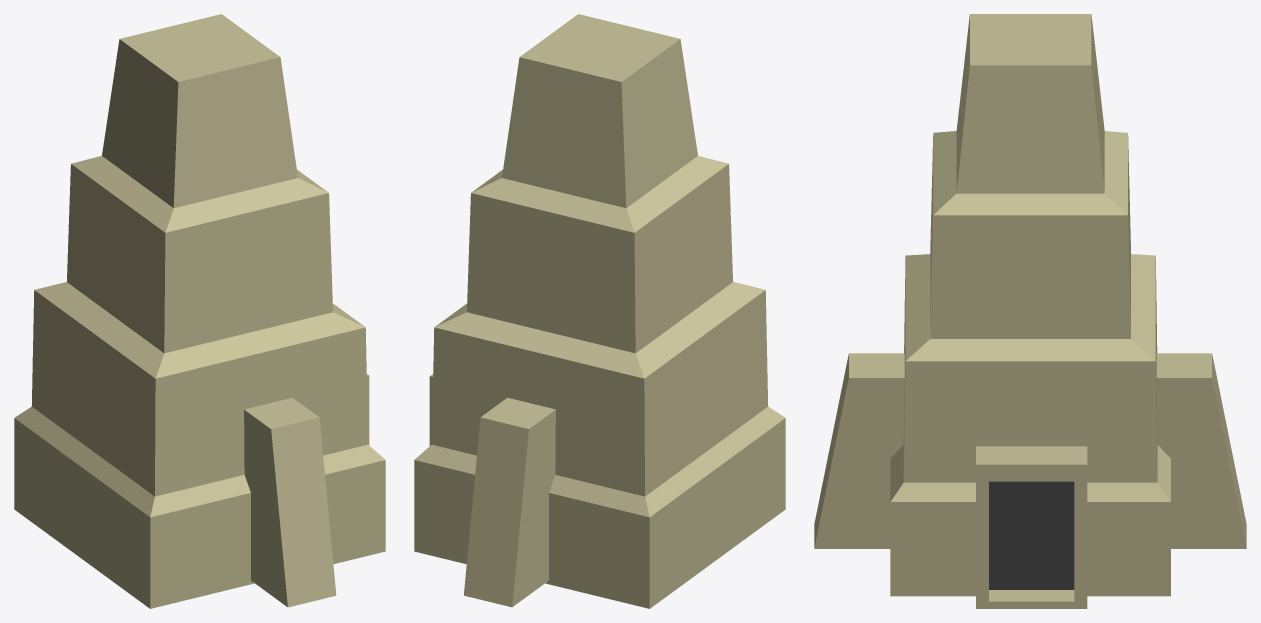
3 views of the same model, side by side, from view 1: azimuth 30°, elevation 25°; view 2: azimuth 150°, elevation 25°; view 3: azimuth 270°, elevation 25° (orthographic). The views are drawn at different scales.
Parts seen in each view (by area): view 1: Cube.008; view 2: Cube.008; view 3: Cube.008.
Part boxes in pixels (bbox=[...]): Cube.008: bbox=[14, 14, 385, 608]; Cube.008: bbox=[414, 14, 785, 608]; Cube.008: bbox=[814, 14, 1246, 608].
Bounding box in the file's own units: 115 × 203 × 160.
